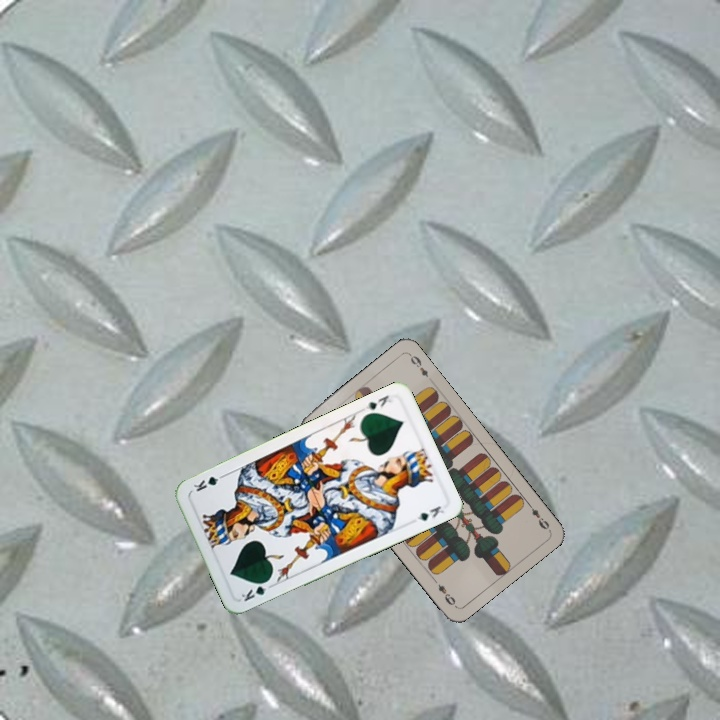E9: (523, 498, 552, 532)
GK: (237, 576, 276, 604), (361, 391, 396, 413)
